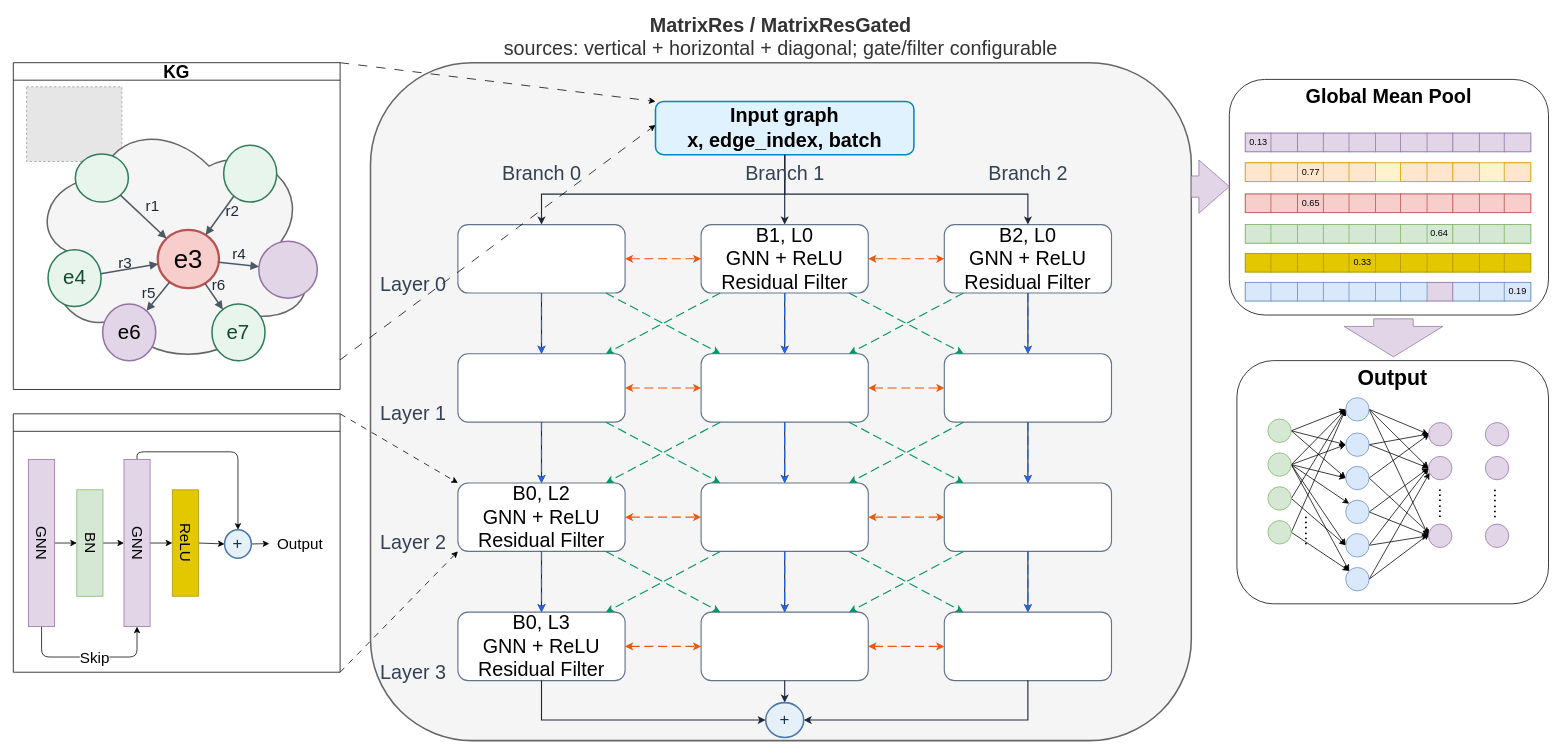
Some shapes in this 1562 by 754 pixel diagram are drawn without their labels. Grey dashed boxes stand in for pictures. The centre of each missing label's shape, as x and y in pixels:
B0, L0 GNN + ReLU Residual Filter: (x=541, y=258)
B0, L1 GNN + ReLU Residual Filter: (x=541, y=387)
B1, L1 GNN + ReLU Residual Filter: (x=784, y=387)
B1, L2 GNN + ReLU Residual Filter: (x=784, y=517)
B1, L3 GNN + ReLU Residual Filter: (x=784, y=646)
B2, L1 GNN + ReLU Residual Filter: (x=1027, y=387)
B2, L2 GNN + ReLU Residual Filter: (x=1027, y=517)
B2, L3 GNN + ReLU Residual Filter: (x=1027, y=646)
Block: (x=176, y=542)
e1: (x=101, y=177)
e2: (x=250, y=173)
e5: (x=288, y=269)
